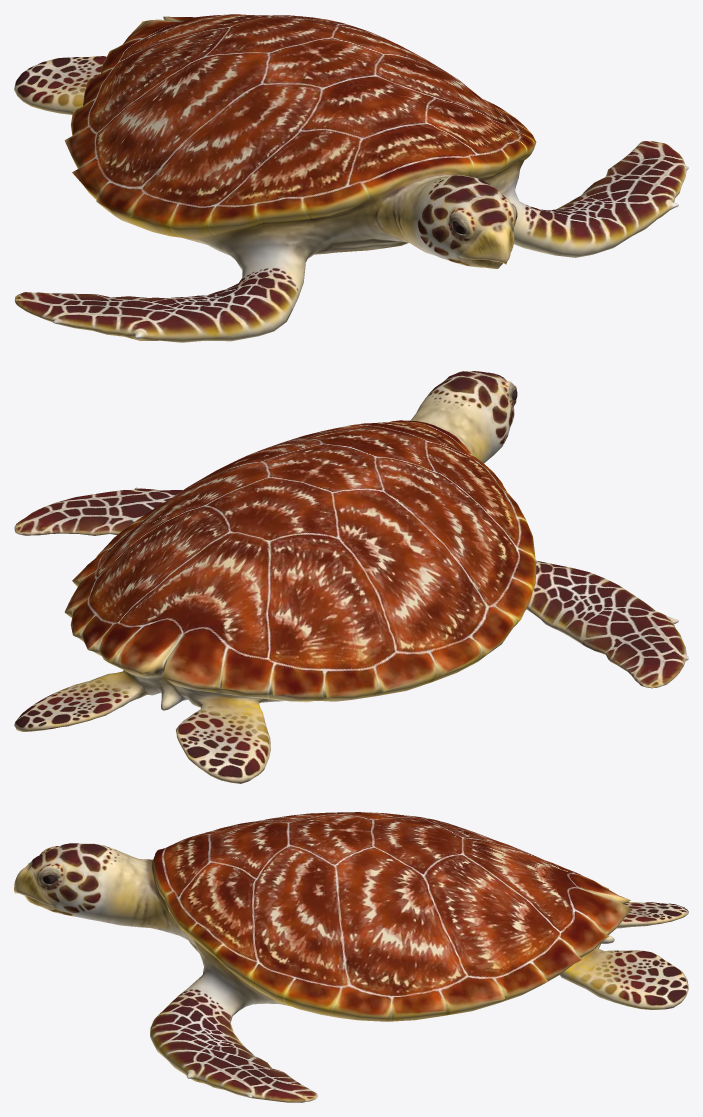
Rendered from hawksbill.glb.
The picture shows the model from 3 angles, top to bottom: view 1: azimuth 30°, elevation 25°; view 2: azimuth 150°, elevation 25°; view 3: azimuth 270°, elevation 25°; orthographic projection. The views are drawn at different scales.
Visible parts, largest first — view 1: turtle; view 2: turtle; view 3: turtle.
Part boxes in pixels (x1,y1,x2,y2): turtle: (14,14,688,342); turtle: (14,371,688,783); turtle: (14,812,688,1102).
Bounding box in the file's own units: 1.94 × 0.4768 × 2.
3 materials, 2 textured.
